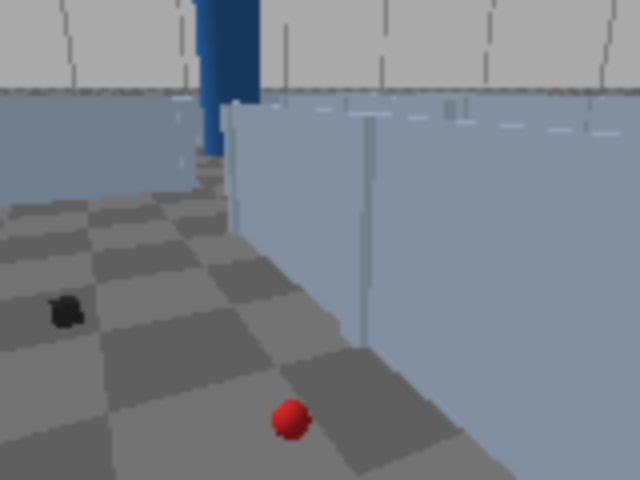puck: (265, 388, 317, 454), (49, 295, 84, 329)
